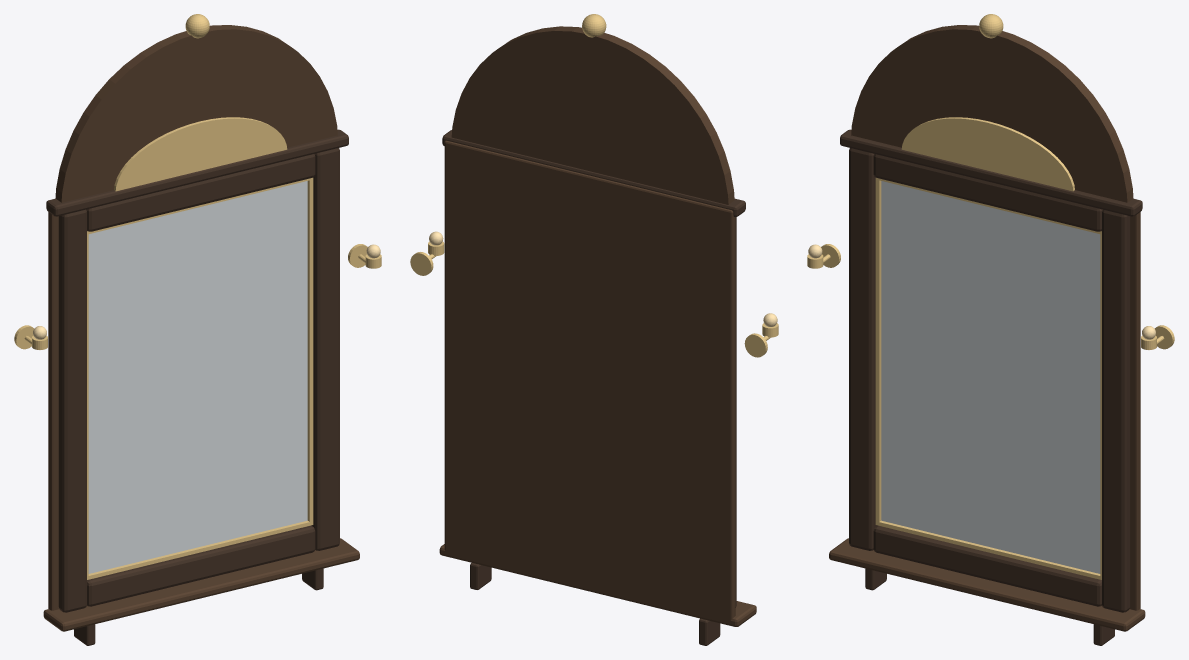
The model's file is BarMirror.fbx.
The picture shows the model from 3 angles, left to right: view 1: azimuth 30°, elevation 25°; view 2: azimuth 150°, elevation 25°; view 3: azimuth 330°, elevation 25°; orthographic projection.
Visible parts, largest first — view 1: MirrorFrame, MirrorGlass; view 2: MirrorFrame; view 3: MirrorFrame, MirrorGlass.
Boxes of the visible parts, x1=… form: MirrorFrame: x1=14, y1=14, x2=381, y2=645; MirrorGlass: x1=88, y1=181, x2=307, y2=573; MirrorFrame: x1=410, y1=14, x2=778, y2=645; MirrorFrame: x1=807, y1=14, x2=1174, y2=645; MirrorGlass: x1=881, y1=181, x2=1100, y2=573.
Bounding box in the file's own units: 202 × 325 × 20.
